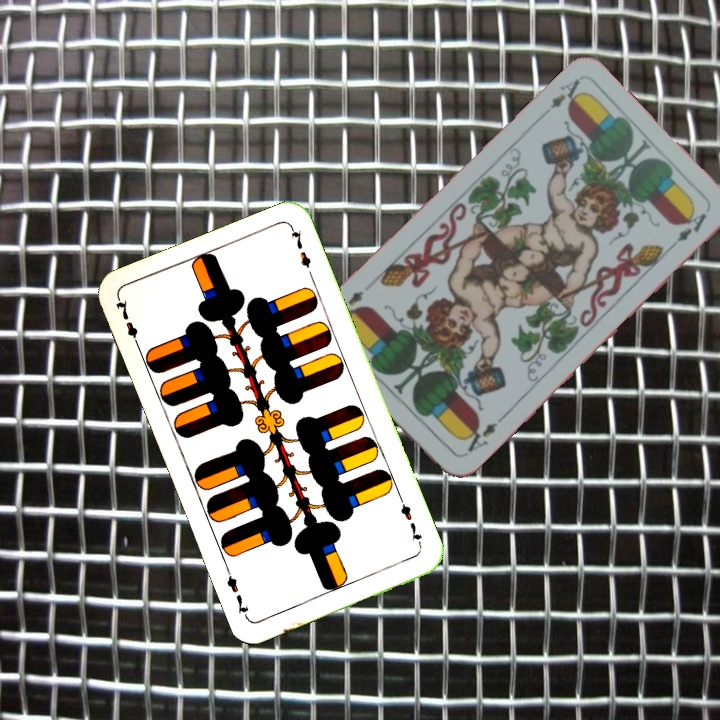E7: (112, 294, 143, 351), (395, 494, 425, 550)
EA: (536, 75, 587, 121), (457, 413, 506, 455)
